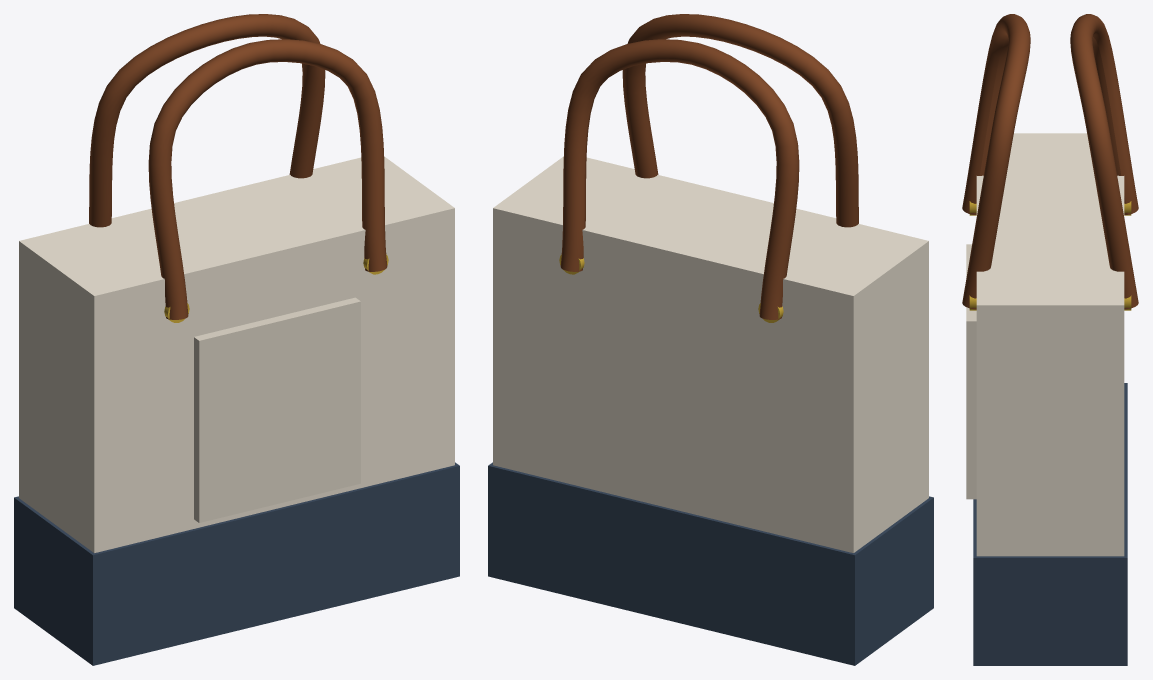
Rendered from fabric_bag.glb.
3 views of the same model, side by side, from view 1: azimuth 30°, elevation 25°; view 2: azimuth 150°, elevation 25°; view 3: azimuth 270°, elevation 25° (orthographic). The views are drawn at different scales.
Bounding box in the file's own units: 1.18 × 1.72 × 0.5032.
